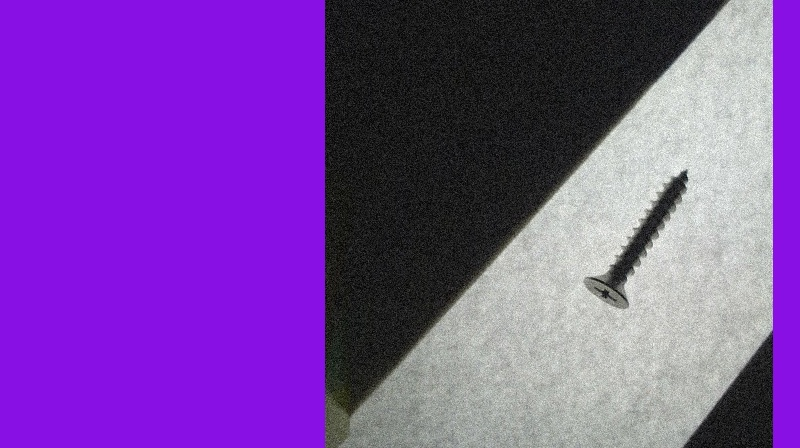S001: (581, 168, 692, 313)
